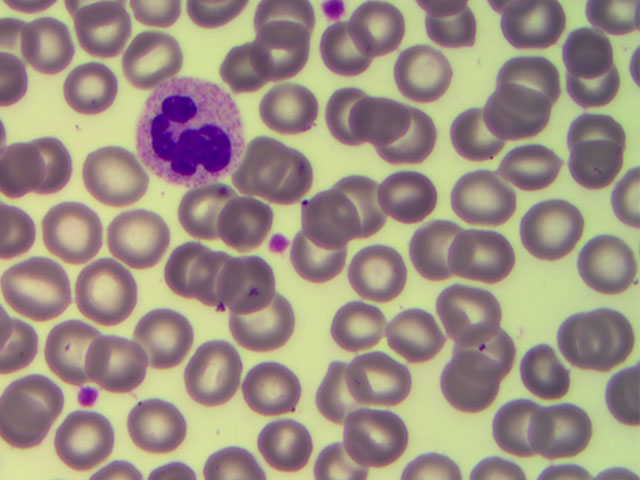Platelets: (73, 387, 100, 410), (268, 234, 289, 257), (323, 1, 345, 20)
RBC: (311, 424, 369, 480), (273, 424, 331, 480), (19, 19, 77, 74), (120, 27, 178, 82), (64, 62, 122, 117), (79, 145, 137, 200), (31, 138, 89, 193), (1, 145, 59, 200), (39, 201, 97, 256), (12, 260, 70, 315), (75, 266, 133, 321), (107, 209, 165, 264), (164, 175, 222, 230), (204, 192, 262, 247), (225, 136, 283, 191), (259, 147, 317, 202), (263, 80, 321, 135), (221, 41, 279, 96), (259, 24, 317, 79), (307, 27, 365, 82), (397, 44, 455, 99), (384, 109, 442, 164), (356, 91, 414, 146), (321, 80, 379, 135), (323, 171, 381, 226), (367, 170, 425, 225), (302, 194, 360, 249), (287, 230, 345, 285), (351, 247, 409, 302), (404, 219, 462, 274), (458, 229, 516, 284), (458, 169, 516, 224), (497, 139, 555, 194), (463, 108, 521, 163), (503, 83, 561, 138), (504, 49, 562, 104), (554, 17, 612, 72), (575, 58, 633, 113), (564, 101, 622, 156), (577, 136, 635, 191), (519, 202, 577, 257), (582, 233, 640, 288), (582, 308, 640, 363), (559, 314, 617, 369), (512, 340, 570, 395), (533, 397, 591, 452), (500, 398, 558, 453), (429, 359, 487, 414), (459, 335, 517, 390), (439, 284, 497, 339), (396, 299, 454, 354), (338, 292, 396, 347), (348, 343, 406, 398), (318, 357, 376, 412), (343, 398, 401, 453), (243, 357, 301, 412), (197, 346, 255, 401), (231, 294, 289, 349), (214, 256, 272, 311), (191, 250, 249, 305), (165, 241, 223, 296), (140, 306, 198, 361), (188, 344, 246, 399), (137, 400, 195, 455), (84, 333, 142, 388), (135, 313, 193, 368), (61, 326, 119, 381), (8, 367, 66, 422), (56, 404, 114, 459), (66, 1, 124, 55), (264, 1, 322, 55), (353, 1, 411, 55), (508, 1, 566, 55)
WBC: (139, 79, 244, 183)
